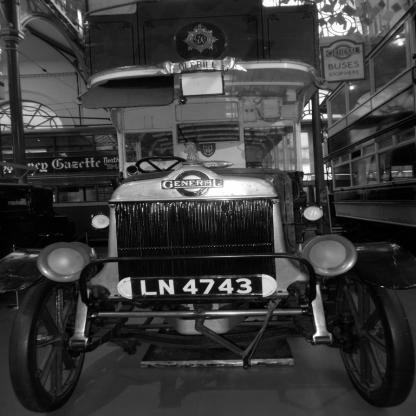car: (1, 54, 416, 416)
